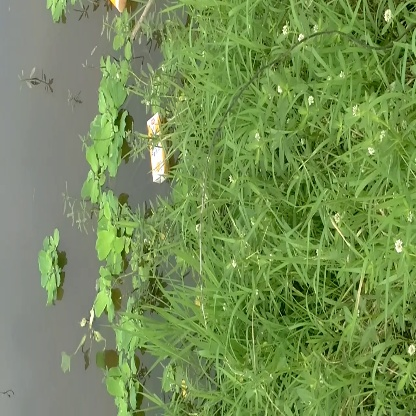milk-box: (144, 111, 171, 186)
